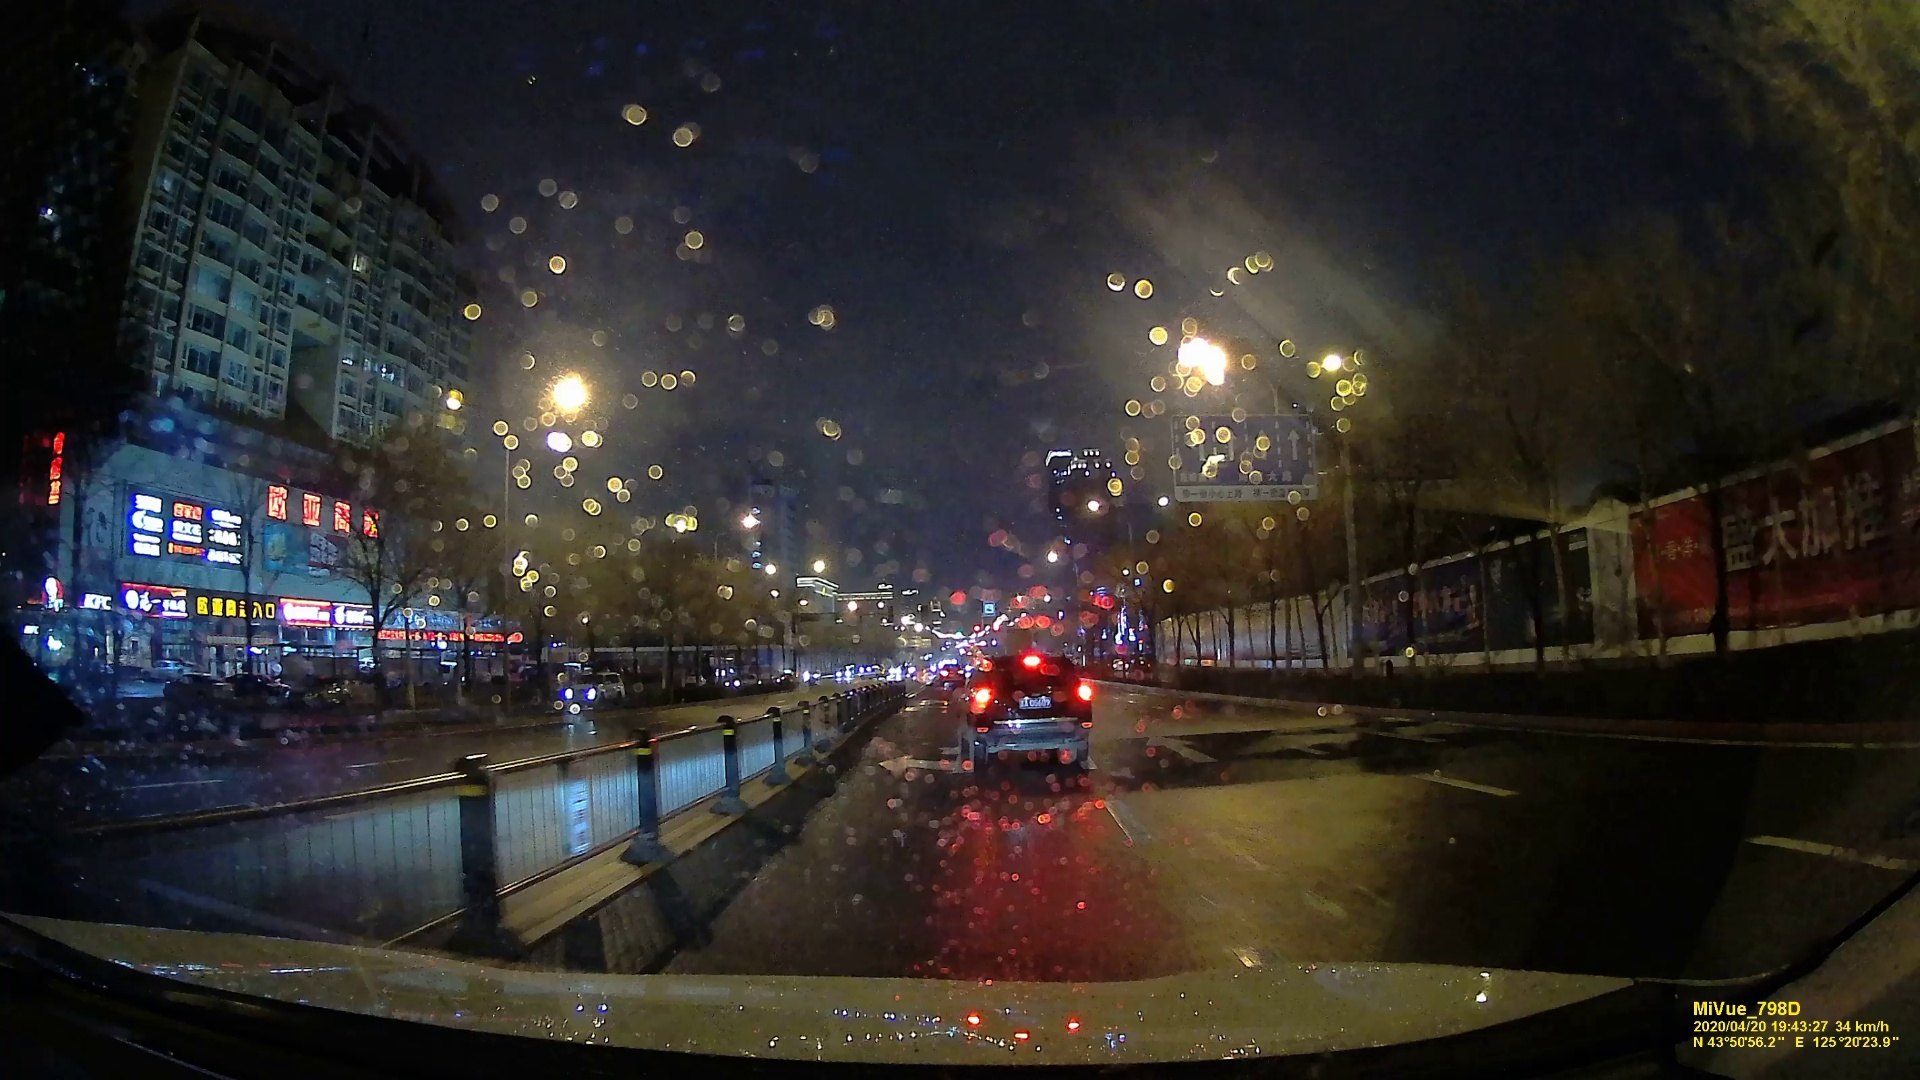traffic_sign: (1174, 415, 1313, 502)
vehicle: (960, 654, 1089, 769), (563, 671, 625, 707)
